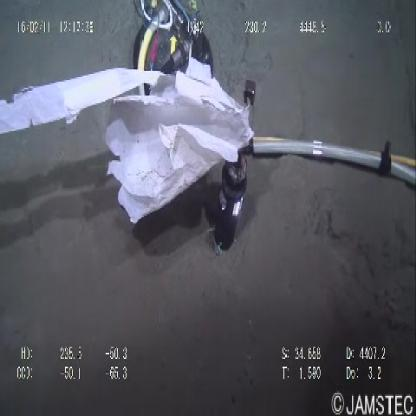Rov: (132, 1, 213, 74)
Rác: (1, 71, 254, 223)
